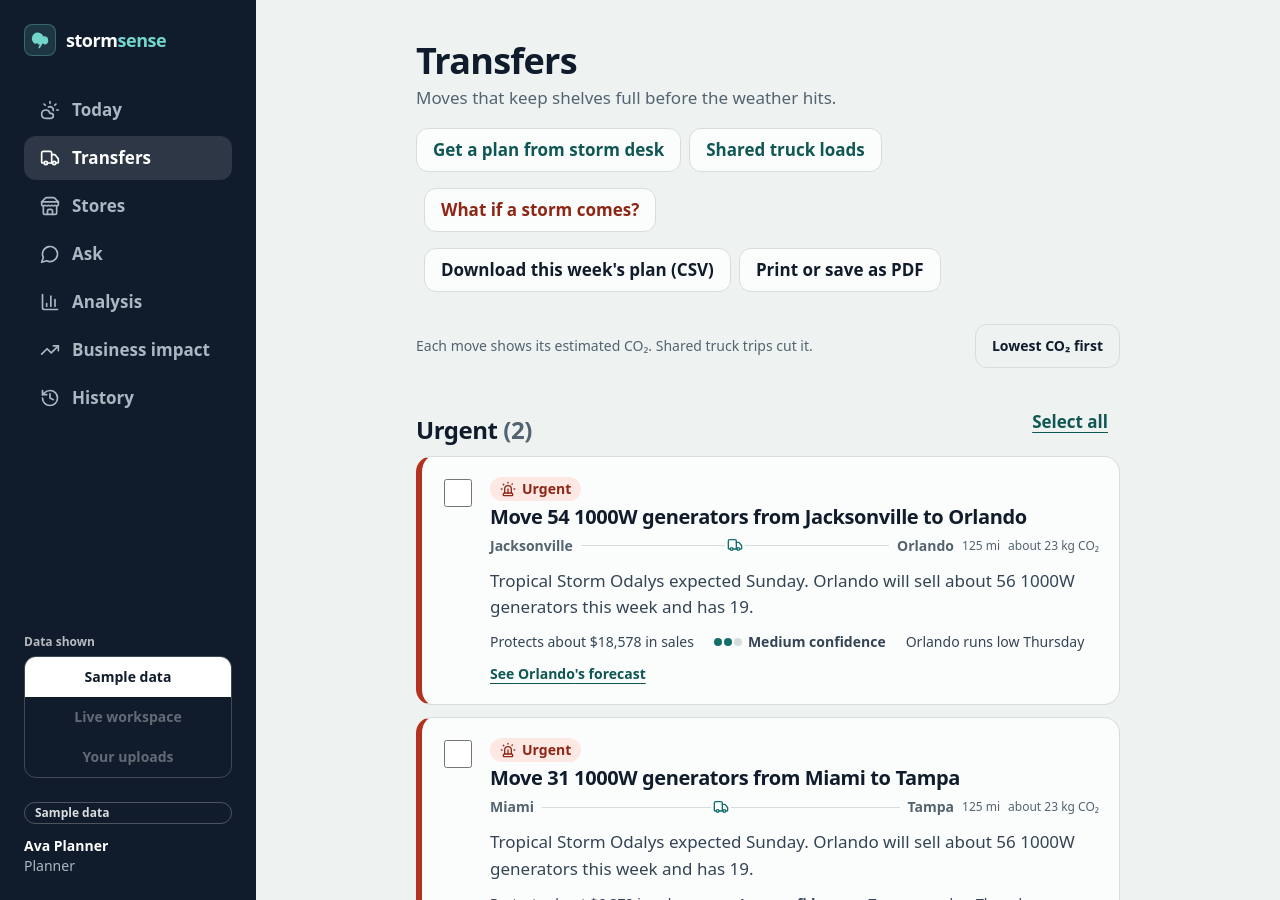
Scenario: Transfers › approves several: select, confirm, then a clear result
Click the checkbox labelled "Move 54 1000W generators from Jacksonville to Orlando" at coordinates (458, 493), box [444, 479, 472, 507]
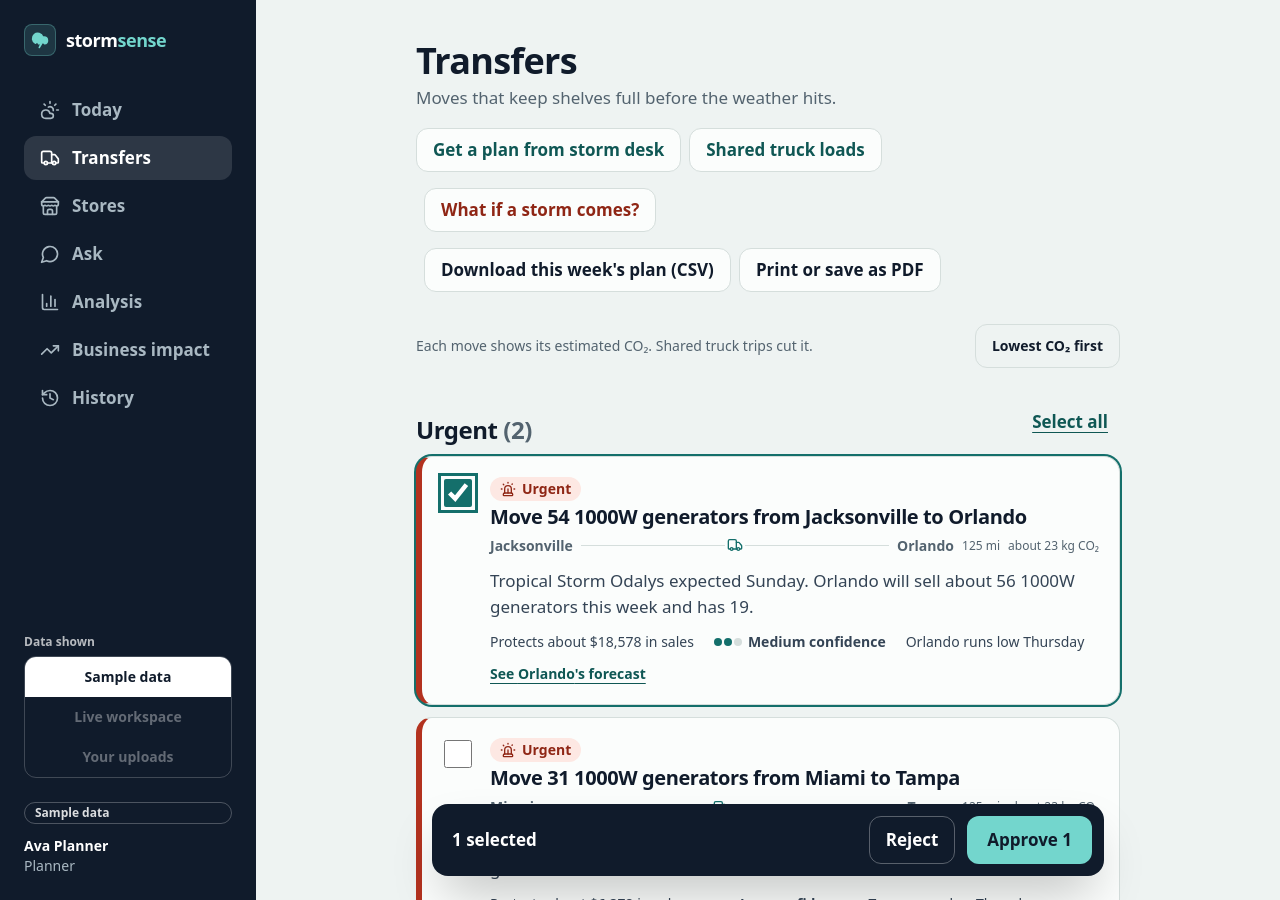
Click the checkbox labelled "Move 31 1000W generators from Miami to Tampa" at coordinates (458, 754), box [444, 740, 472, 768]
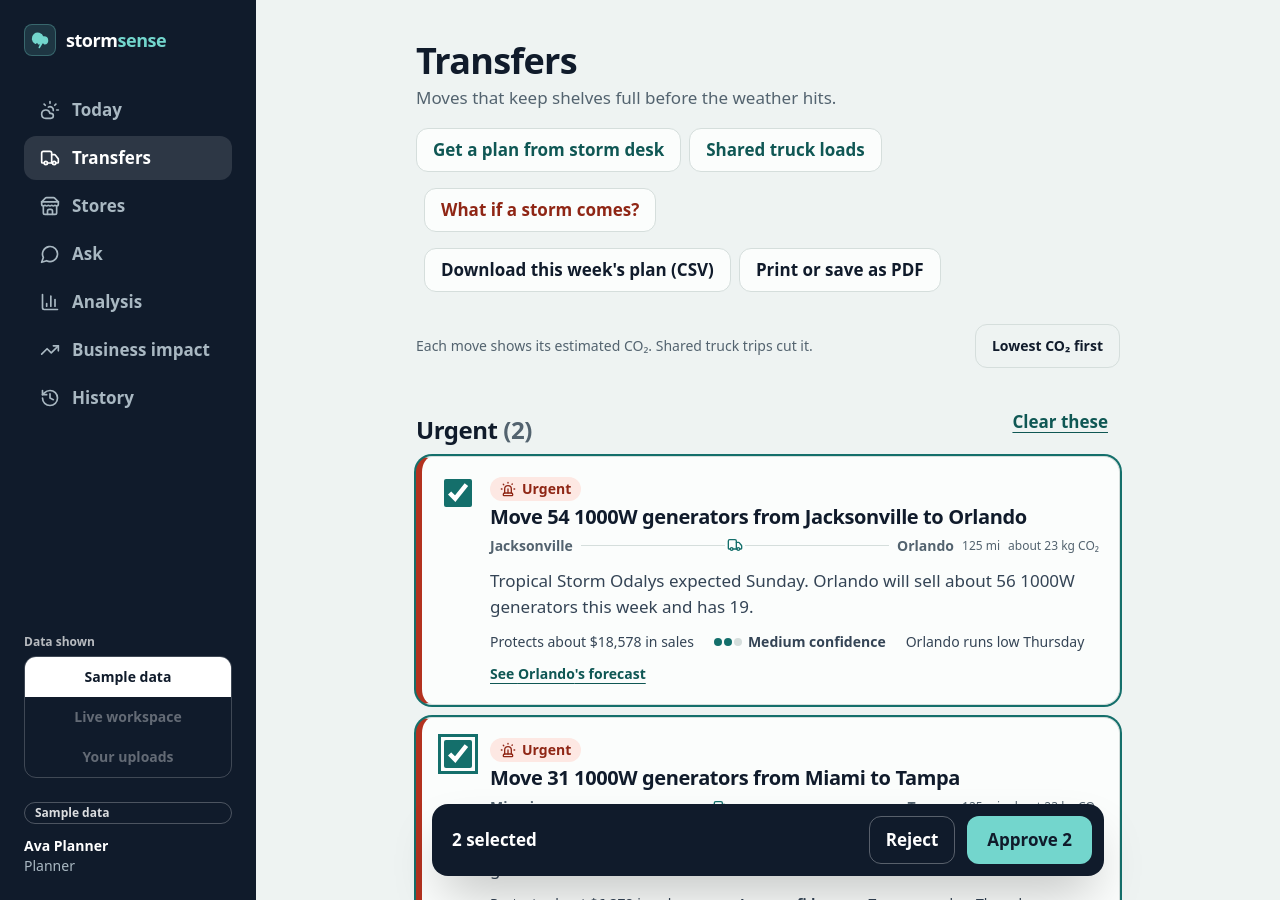
Result: the text "2 selected" is shown at [452, 828, 537, 851]
Click the button "Approve 2" at coordinates (1030, 840), box [967, 816, 1092, 864]
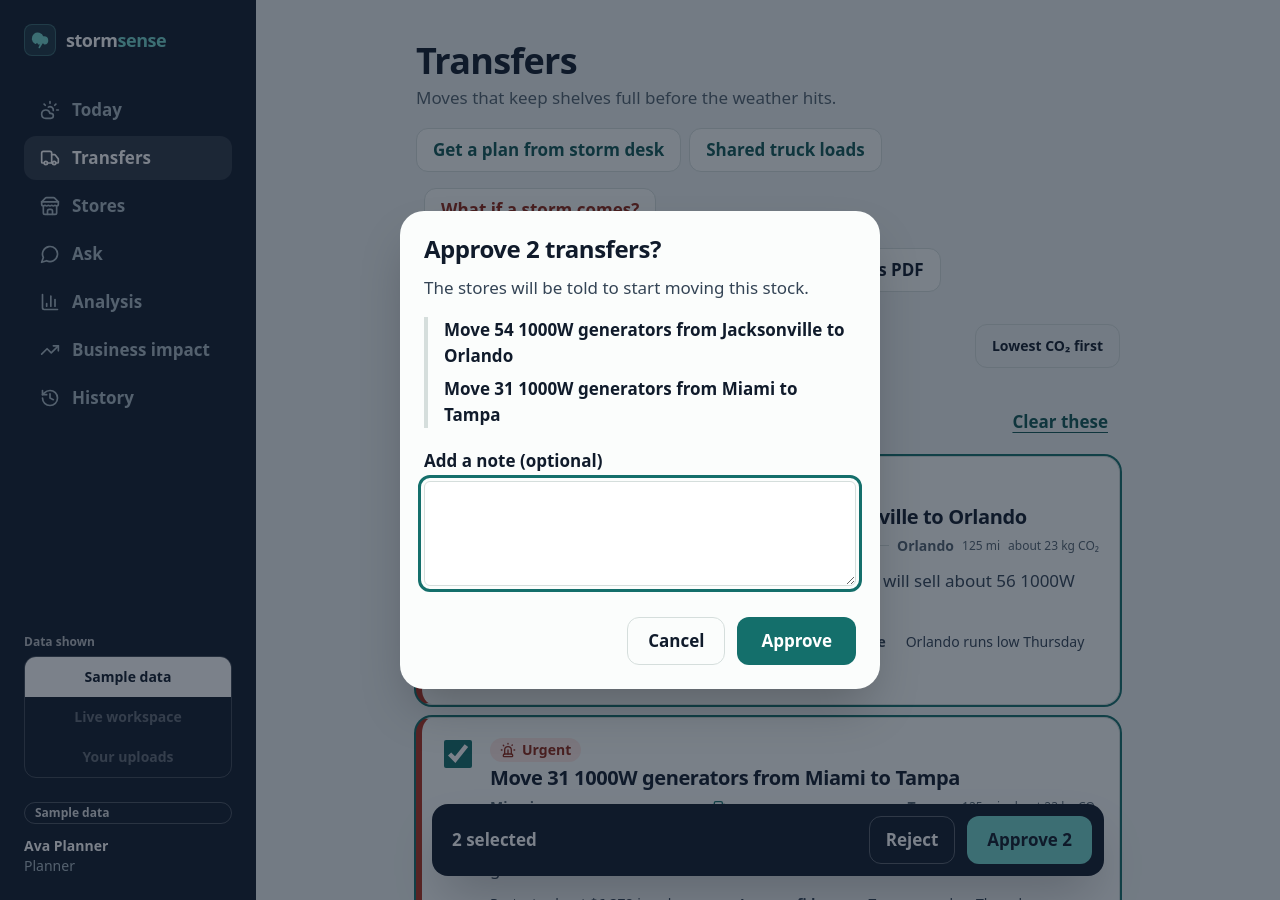
Result: the heading "Approve 2 transfers?" is shown at [424, 232, 661, 265]
Type "Trucks are booked" into the text box labelled "Add a note (optional)" at coordinates (640, 533), box [424, 481, 856, 586]
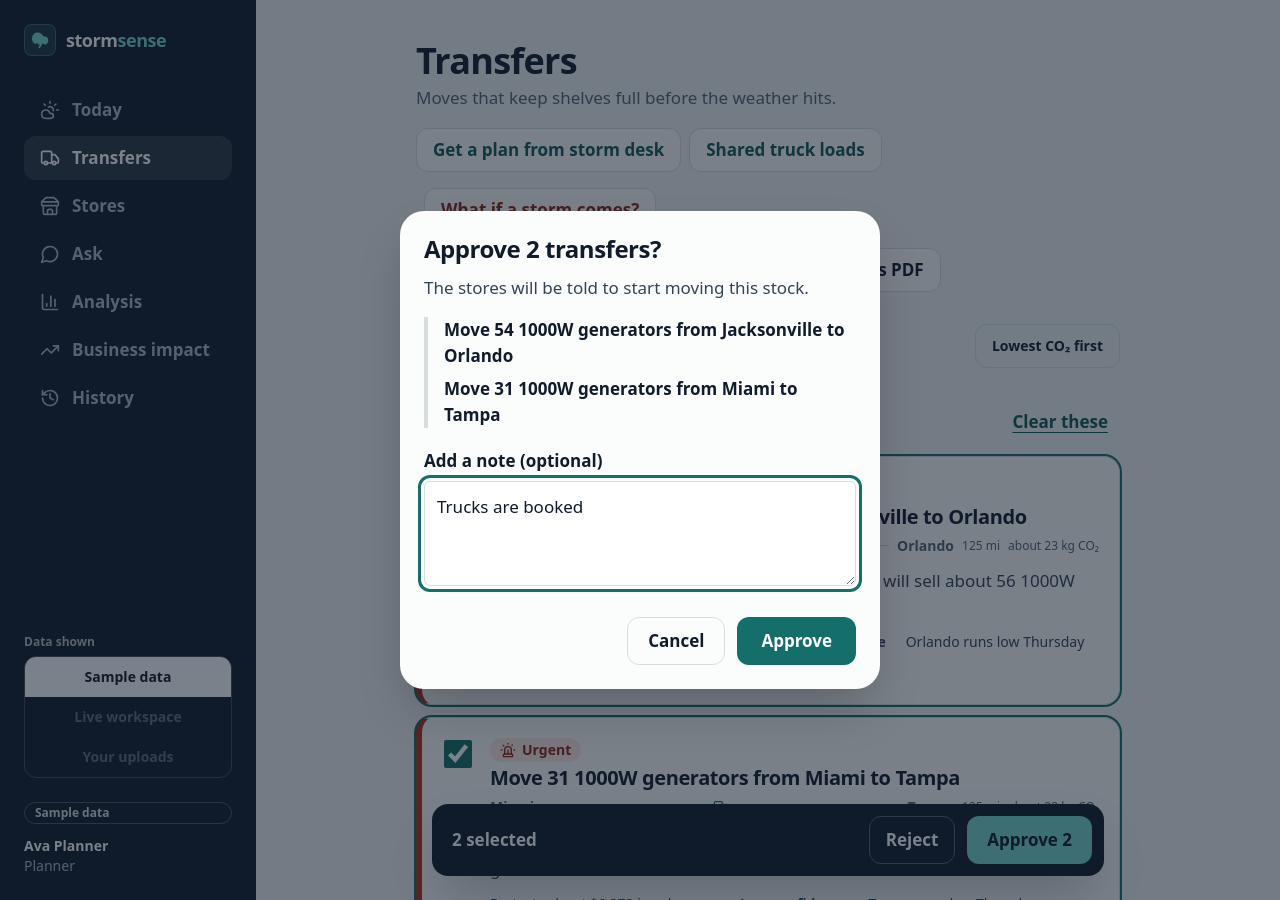
Click the button "Approve" at coordinates (797, 641), box [738, 617, 856, 665]
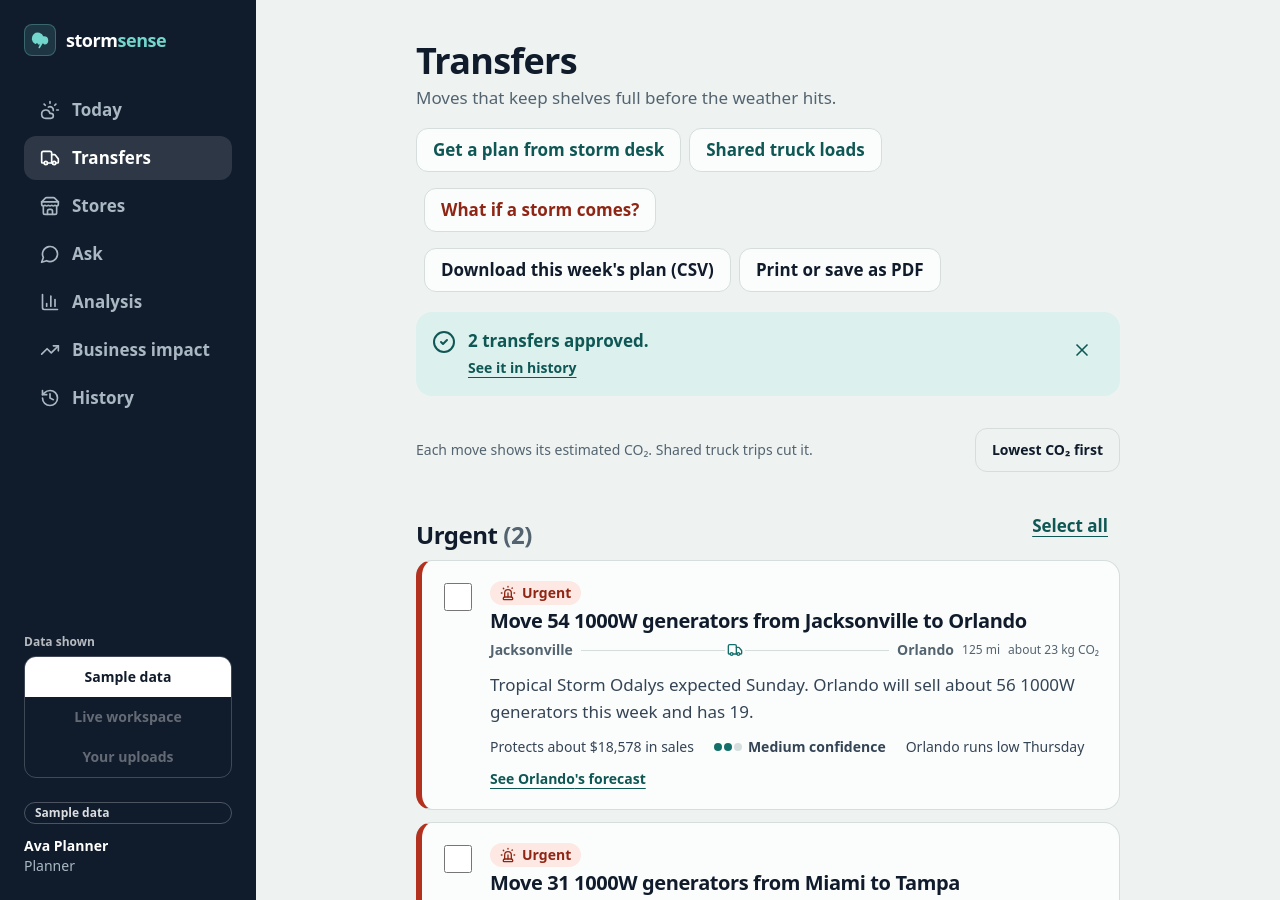
Result: the text "2 transfers approved." is shown at [468, 329, 649, 352]
Result: the text "2 selected" is gone
